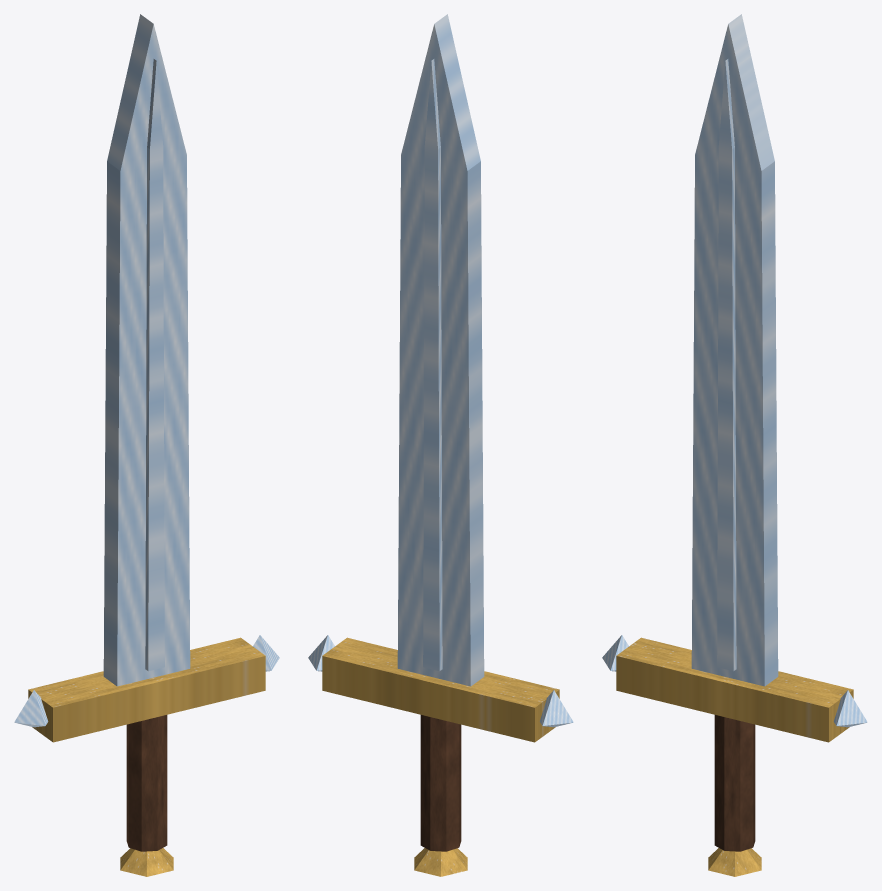
File: rival_seren_blade.obj
The picture shows the model from 3 angles, left to right: view 1: azimuth 30°, elevation 25°; view 2: azimuth 150°, elevation 25°; view 3: azimuth 330°, elevation 25°; orthographic projection.
Visible parts, largest first — view 1: rival_seren_blade; view 2: rival_seren_blade; view 3: rival_seren_blade.
Part boxes in pixels (left/top/right/bottom): rival_seren_blade: left=14, top=14, right=279, bottom=876; rival_seren_blade: left=308, top=14, right=573, bottom=876; rival_seren_blade: left=602, top=14, right=867, bottom=876.
Bounding box in the file's own units: 0.5 × 1.54 × 0.0866.
